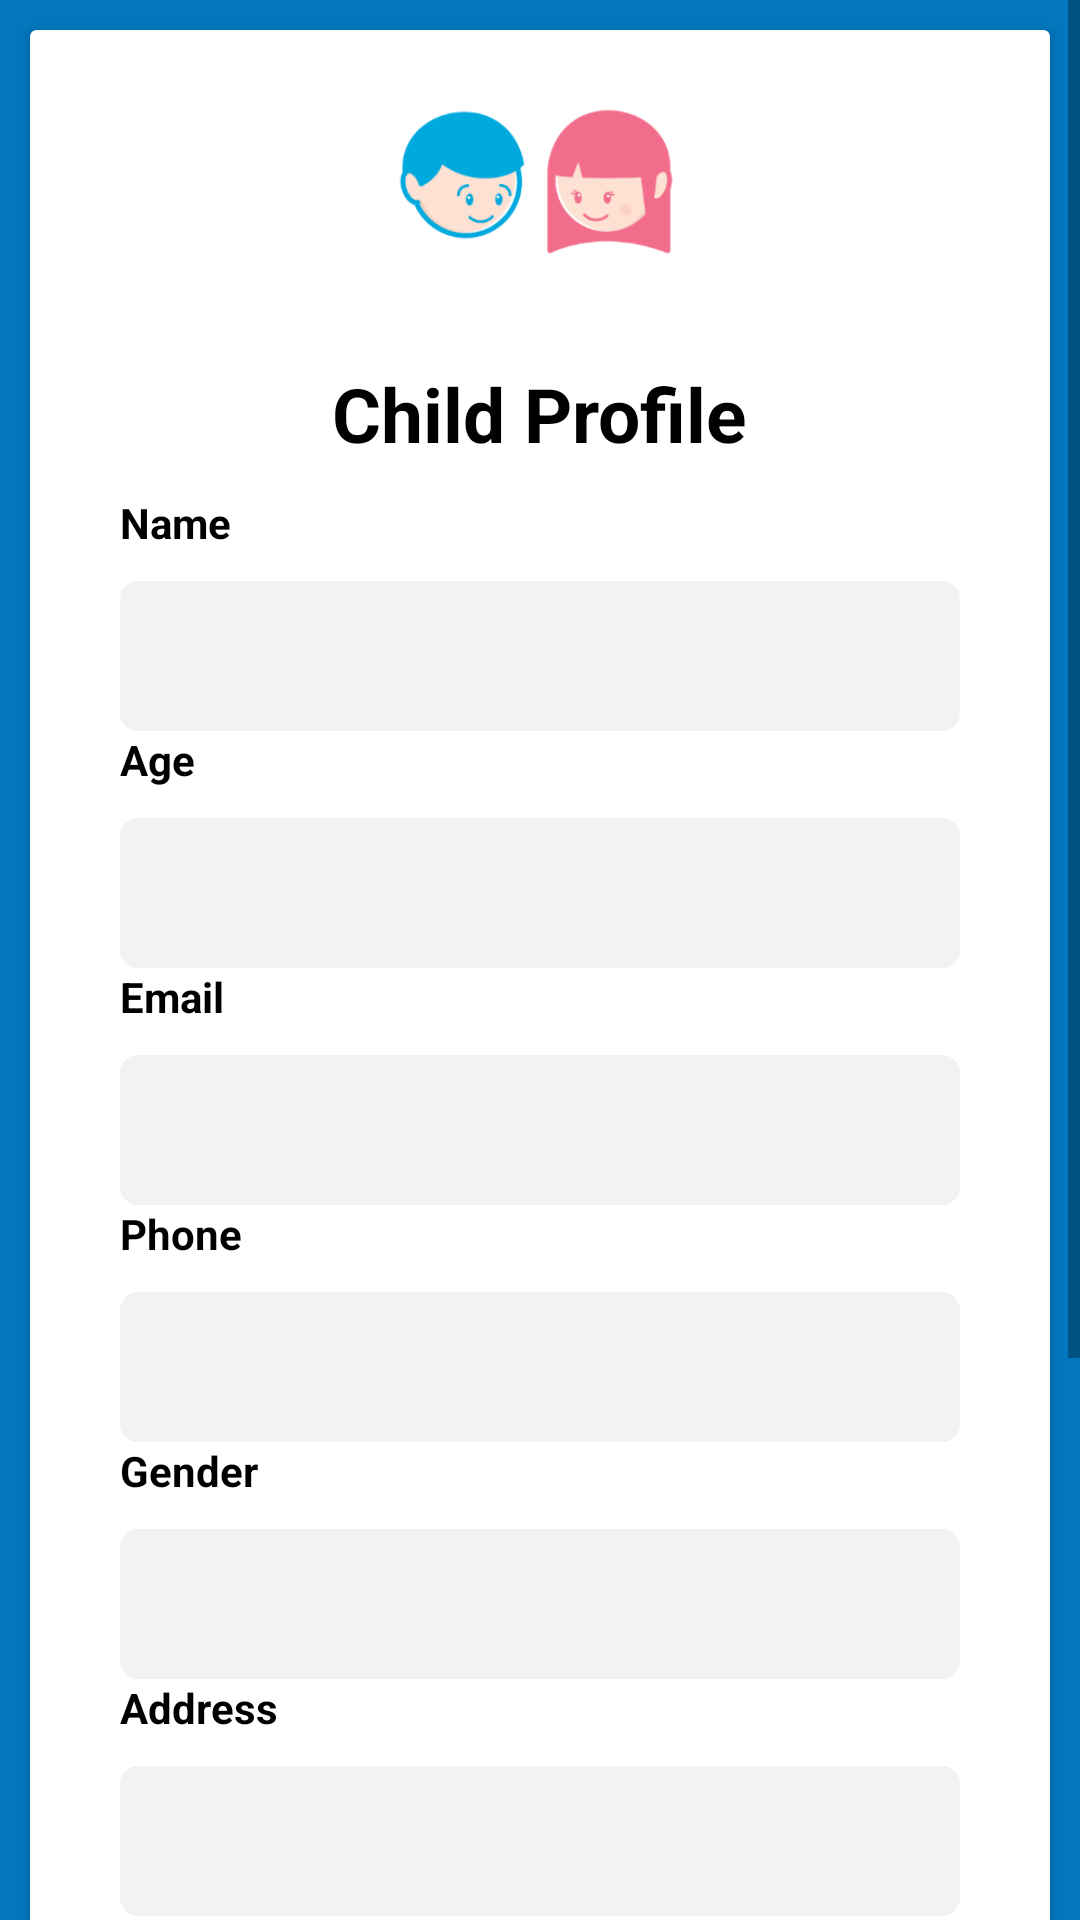

Icon bounding boxes for this 1080px×1920px phone screenshot, format box=[x1, y1, x2, y2]:
childicon: box=[400, 110, 673, 254]
